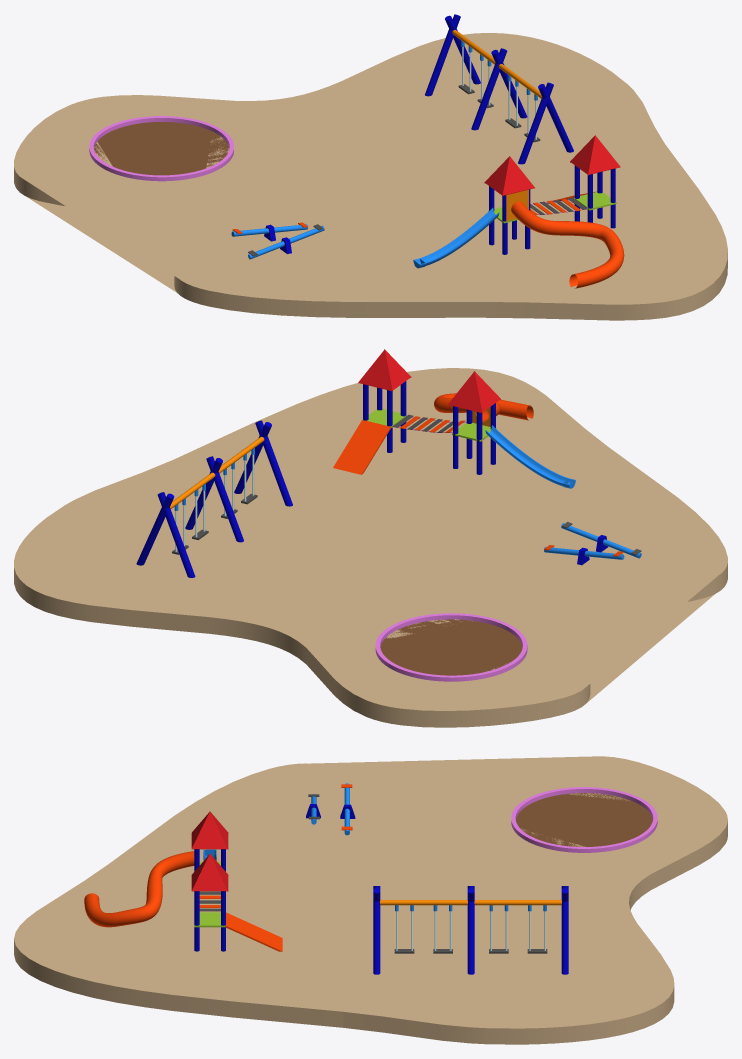
The model's file is PARK 1.fbx.
3 renders of one model, top to bottom at view 1: azimuth 30°, elevation 25°; view 2: azimuth 150°, elevation 25°; view 3: azimuth 270°, elevation 25°, orthographic. The views are drawn at different scales.
Visible parts, largest first — view 1: park; view 2: park; view 3: park.
Boxes of the visible parts, x1,y1,x2,y2 form: park: (14,14,727,320); park: (14,349,727,727); park: (14,756,727,1044).
Size of the model in its own units: 28611 by 5260 by 31701.
10 materials, 10 textured.
